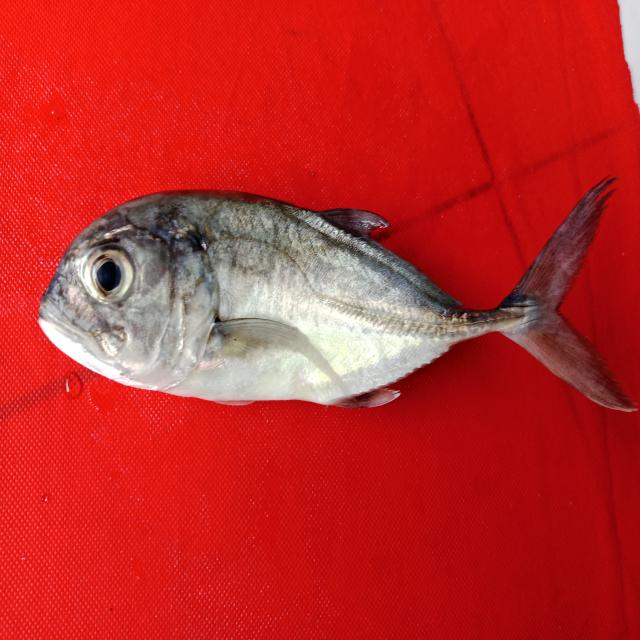ikan: (28, 166, 639, 425)
